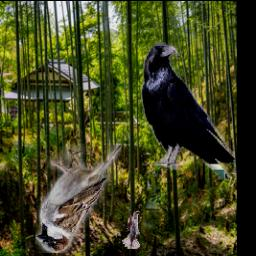Crow: (141, 43, 235, 181)
Sparrow: (35, 145, 122, 254), (123, 211, 141, 249)
